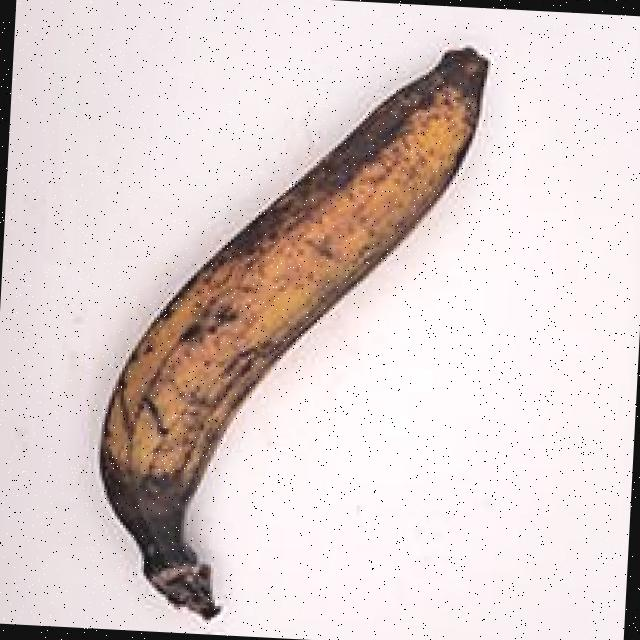Overripe: (61, 12, 507, 624)
